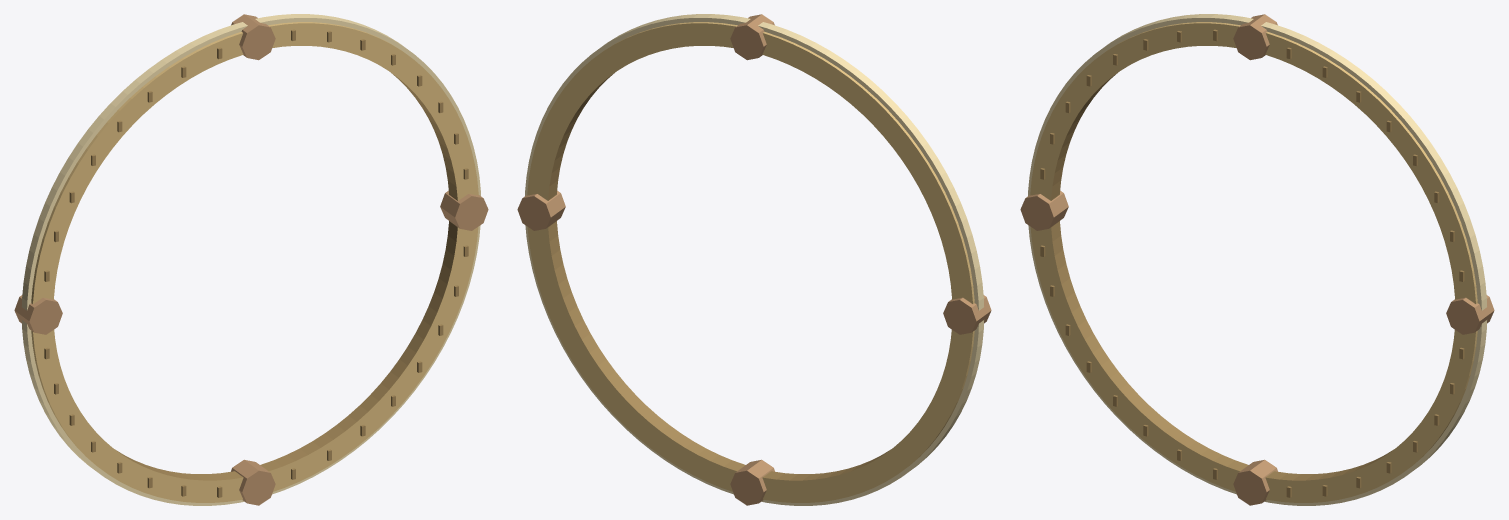
Rendered from Ring4.obj.
3 renders of one model, left to right at view 1: azimuth 30°, elevation 25°; view 2: azimuth 150°, elevation 25°; view 3: azimuth 330°, elevation 25°, orthographic.
Parts seen in each view (by area): view 1: Ring4; view 2: Ring4; view 3: Ring4.
Boxes of the visible parts, x1,y1,x2,y2 form: Ring4: (14,14,488,505); Ring4: (517,14,991,505); Ring4: (1020,14,1494,505).
Bounding box in the file's own units: 12.73 × 12.73 × 0.72.
Materials: 1 (1 with a texture image).
